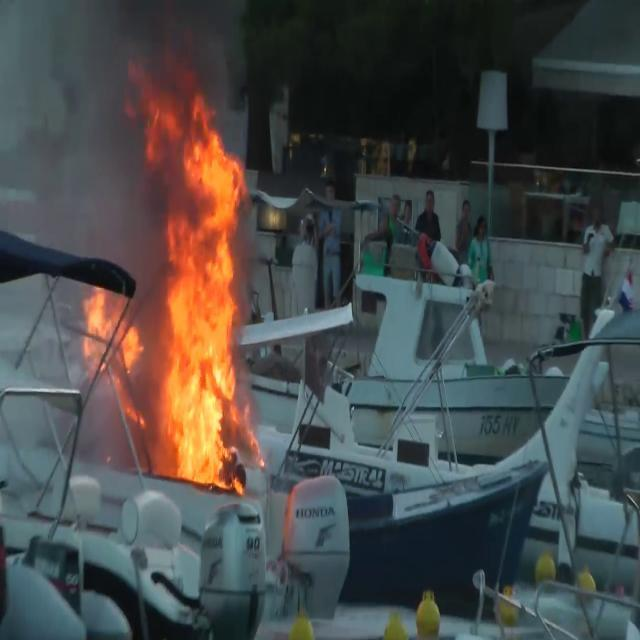Fire: (82, 57, 266, 497)
